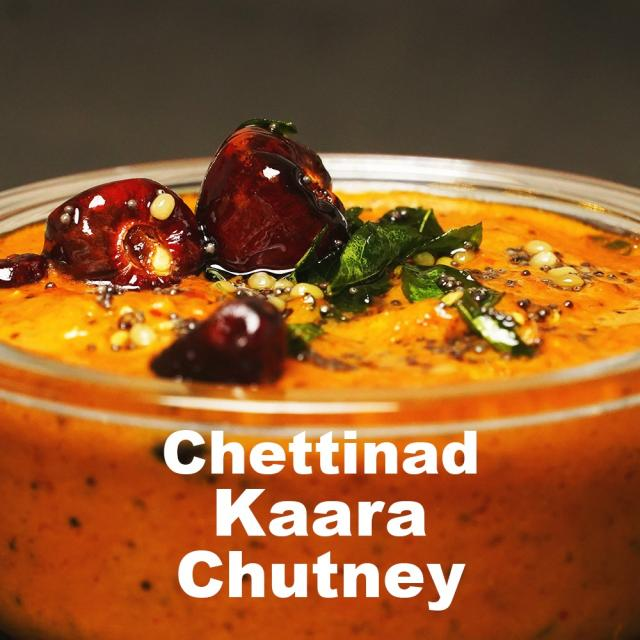kaara chutney: (0, 124, 636, 393)
